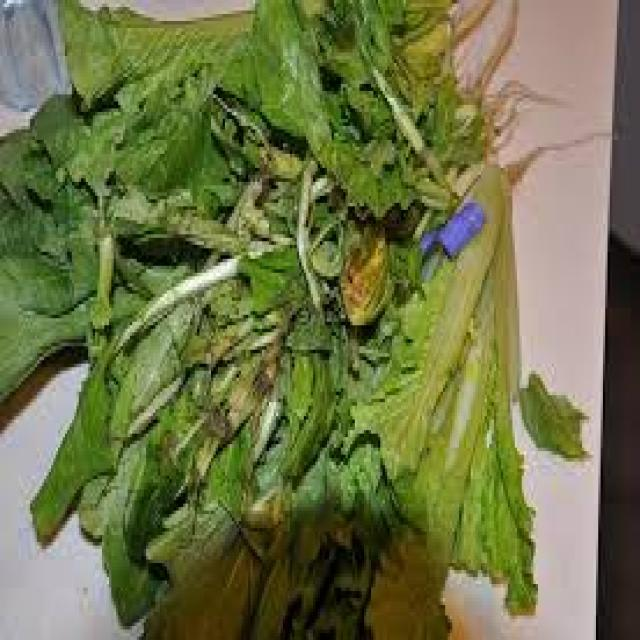food_waste: (0, 0, 533, 637), (519, 371, 584, 458)
